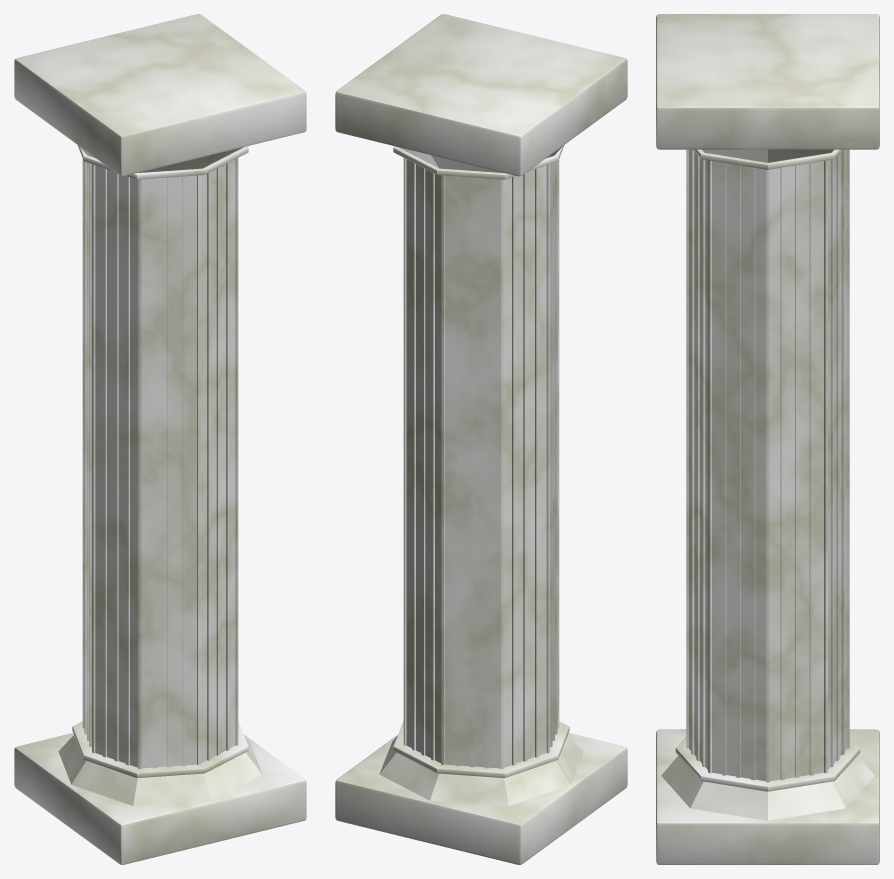
The model's file is hashira_normal_usami.fbx.
The picture shows the model from 3 angles, left to right: view 1: azimuth 30°, elevation 25°; view 2: azimuth 150°, elevation 25°; view 3: azimuth 270°, elevation 25°; orthographic projection. The views are drawn at different scales.
Parts seen in each view (by area): view 1: normal; view 2: normal; view 3: normal.
Part boxes in pixels (x1,y1,x2,y2): normal: (14,14,306,864); normal: (335,14,627,864); normal: (656,14,879,864).
Size of the model in its own units: 10 by 37.4 by 10.
1 material, 1 textured.
